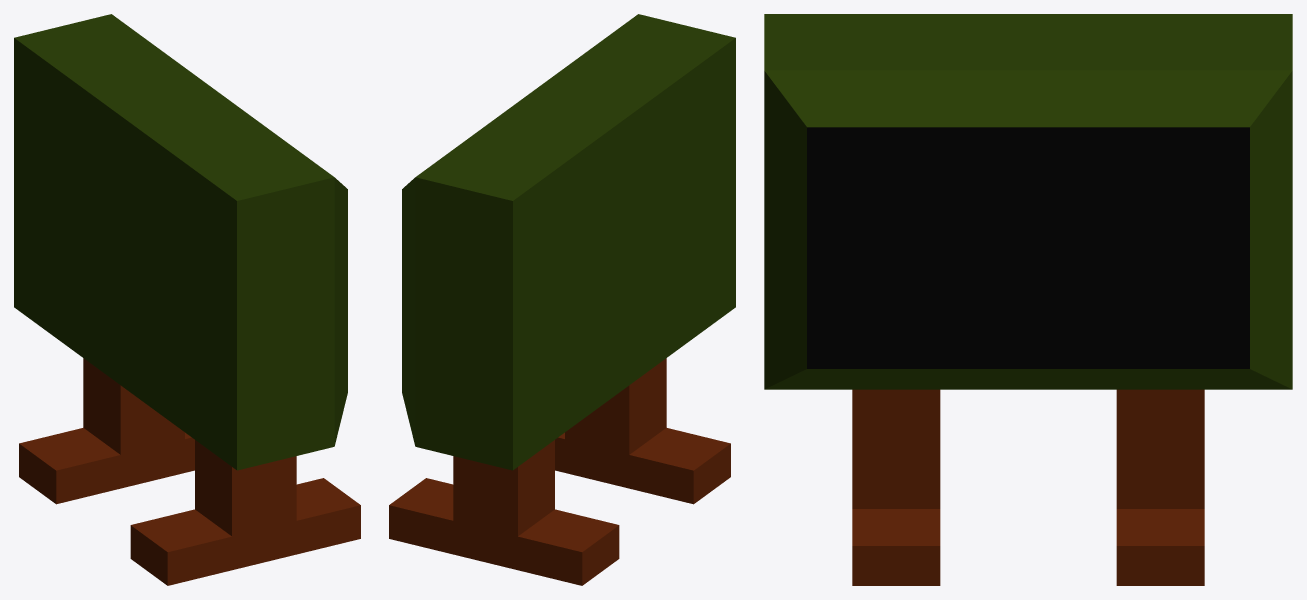
File: board.obj
The picture shows the model from 3 angles, left to right: view 1: azimuth 30°, elevation 25°; view 2: azimuth 150°, elevation 25°; view 3: azimuth 270°, elevation 25°; orthographic projection. The views are drawn at different scales.
Parts seen in each view (by area): view 1: Board; view 2: Board; view 3: Board.
Boxes of the visible parts, box(x1,y1,x2,y2) form: Board: box(14, 14, 360, 585); Board: box(389, 14, 735, 585); Board: box(764, 14, 1292, 585).
Bounding box in the file's own units: 3 × 6 × 6.
